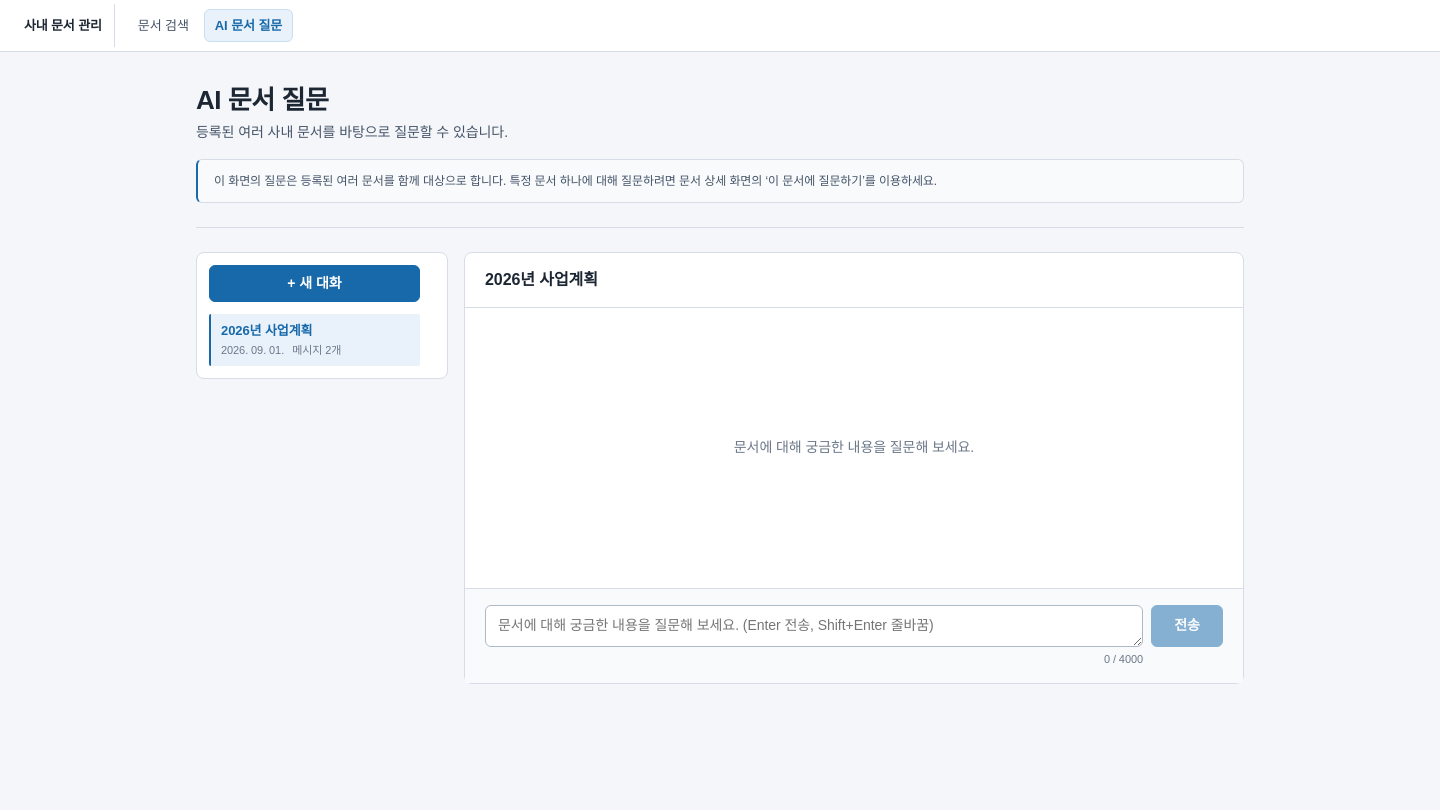
Test case: ChatPage · errors › reports a provider failure with the server message and no vendor detail
The width and height of the screenshot is (1440, 810).
Type "질문" into the text box named "질문 입력" at (814,626), box [485, 605, 1143, 647]
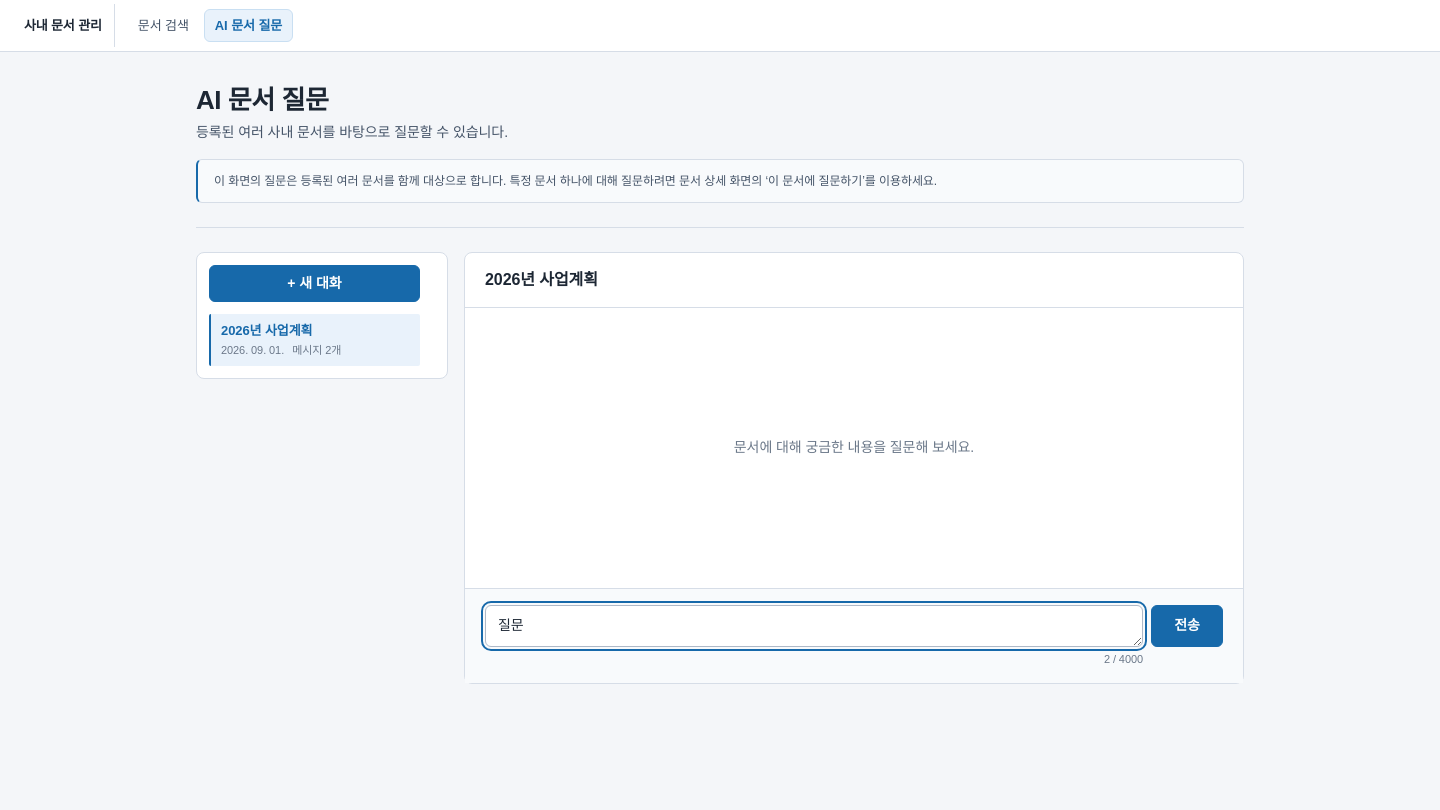
Click the button "전송" at (1187,626), box [1151, 605, 1223, 647]
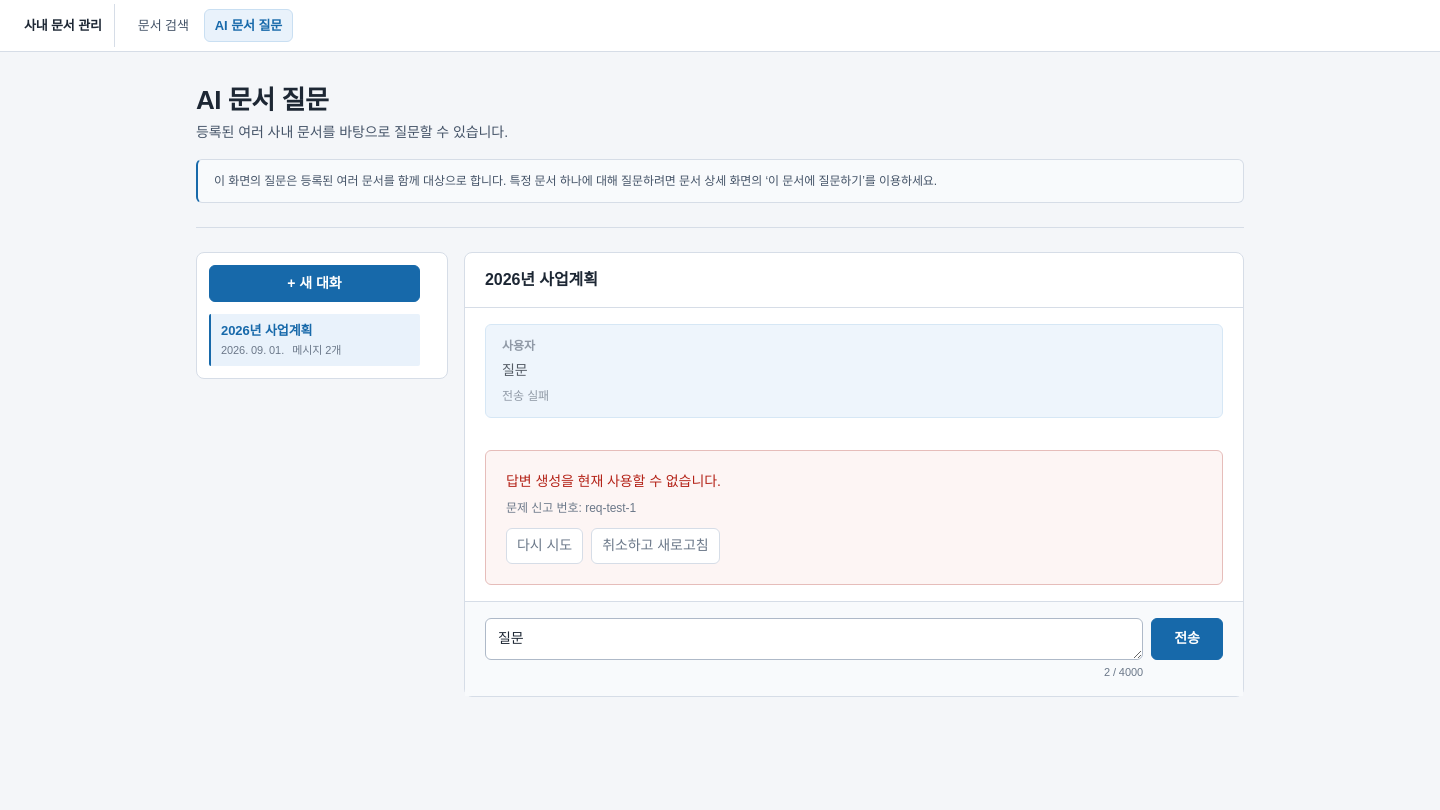
Expected: the text "답변 생성을 현재 사용할 수 없습니다." is shown, [506, 473, 721, 489]
Expected: the text "문제 신고 번호: req-test-1" is shown, [506, 501, 636, 515]
Expected: the message reads "답변 생성을 현재 사용할 수 없습니다. 문제 신고 번호: req-test-1 다시 시도 취소하고 새로고침", [485, 450, 1223, 585]
